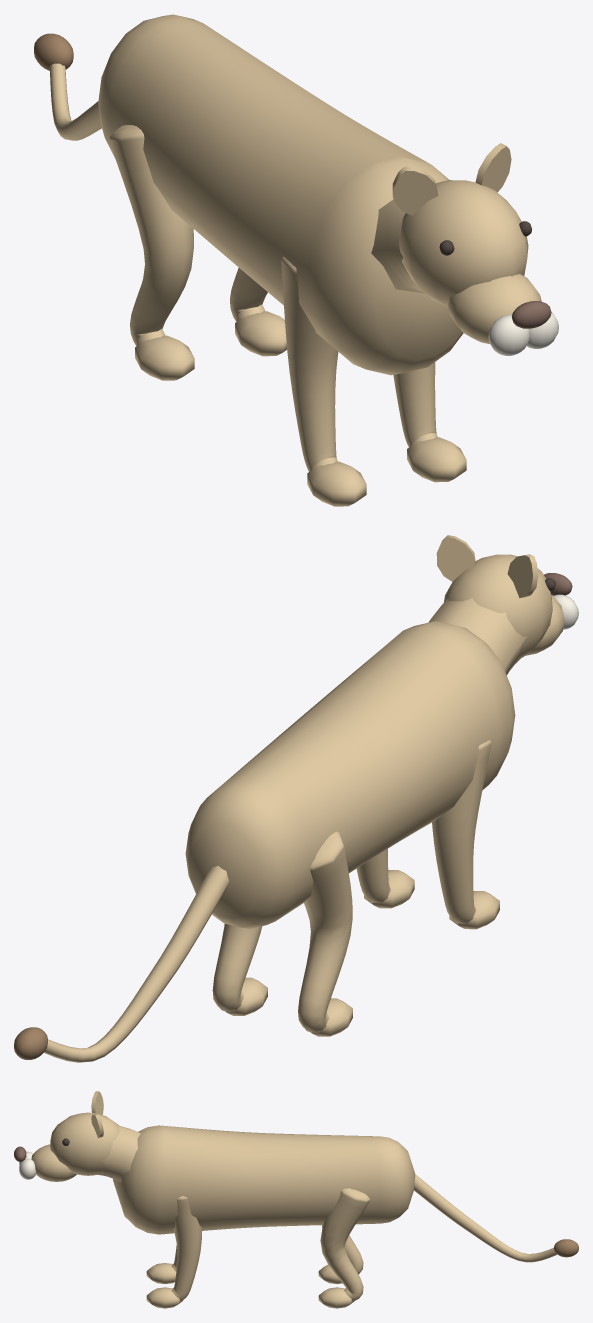
Rendered from savanna-wildlife-lioness-a4576733__6541.glb.
3 views of the same model, one above another, from view 1: azimuth 30°, elevation 25°; view 2: azimuth 150°, elevation 25°; view 3: azimuth 270°, elevation 25° (orthographic). The views are drawn at different scales.
Visible parts, largest first — view 1: lioness; view 2: lioness; view 3: lioness.
Part boxes in pixels (x1,y1,x2,y2): lioness: (34,14,558,506); lioness: (14,535,578,1062); lioness: (14,1091,578,1308).
Size of the model in its own units: 0.6051 by 1.34 by 3.58.
